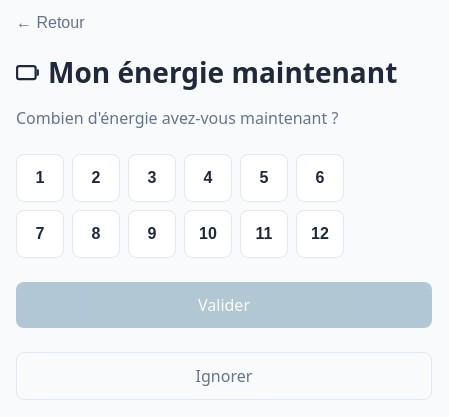
Test: E31EnergyCheckIn › sélectionner une valeur active Valider
Click the button "5": (264, 178) [240,154,288,202]
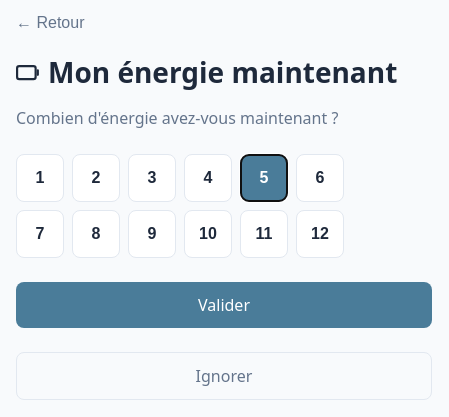
Expected: the button "Valider" is enabled, [16,282,432,328]
